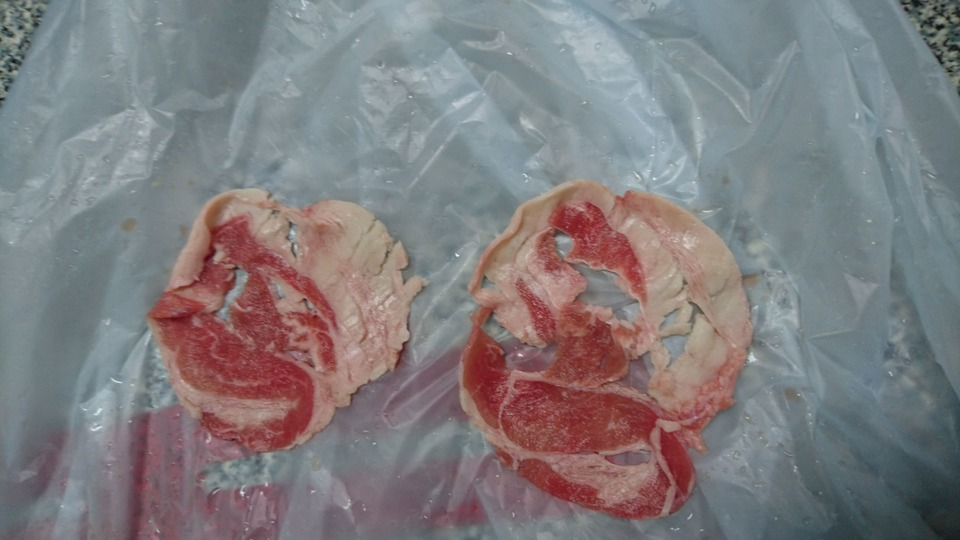restructured meat: (449, 161, 751, 520), (148, 178, 427, 455)
